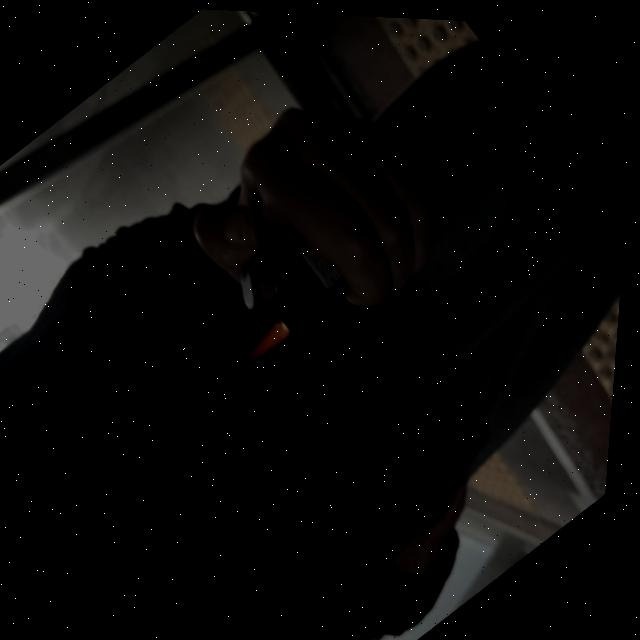Fire: (230, 308, 306, 378)
